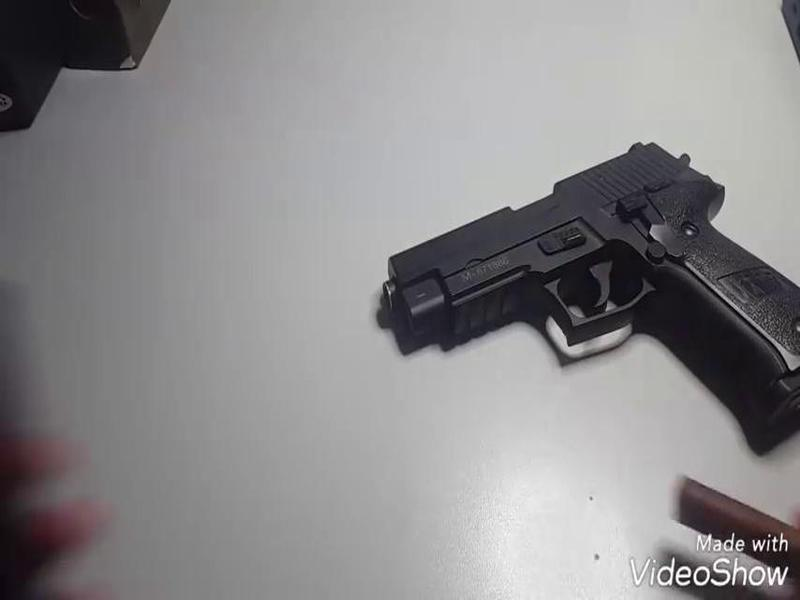Pistola: (372, 123, 800, 439)
